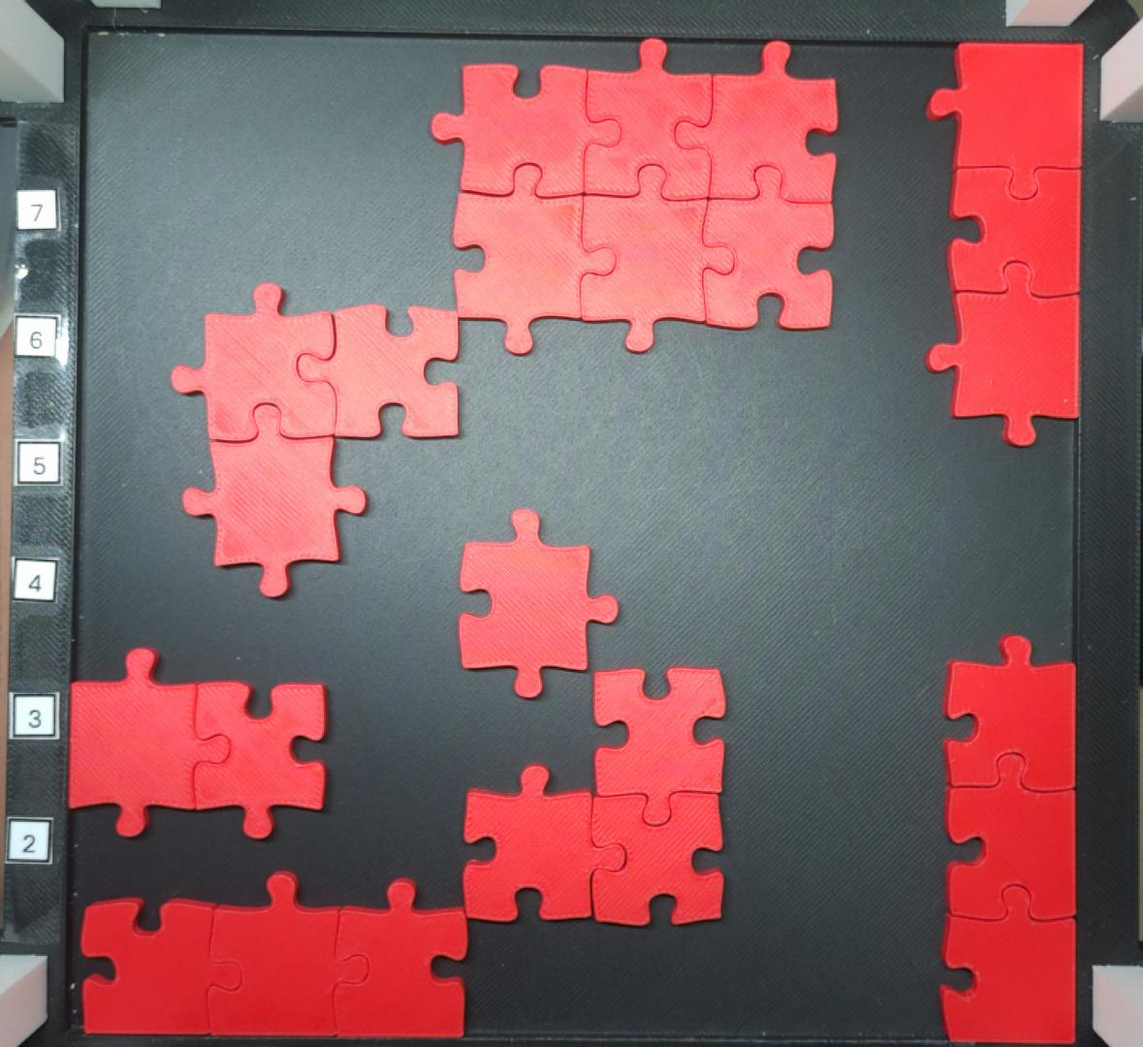p_1: (458, 505, 621, 701)
p_2: (62, 644, 333, 841)
p_3: (170, 281, 462, 599), (460, 664, 728, 930), (923, 39, 1085, 449), (79, 870, 469, 1040), (940, 631, 1080, 1047)
p_m: (428, 35, 841, 356)
